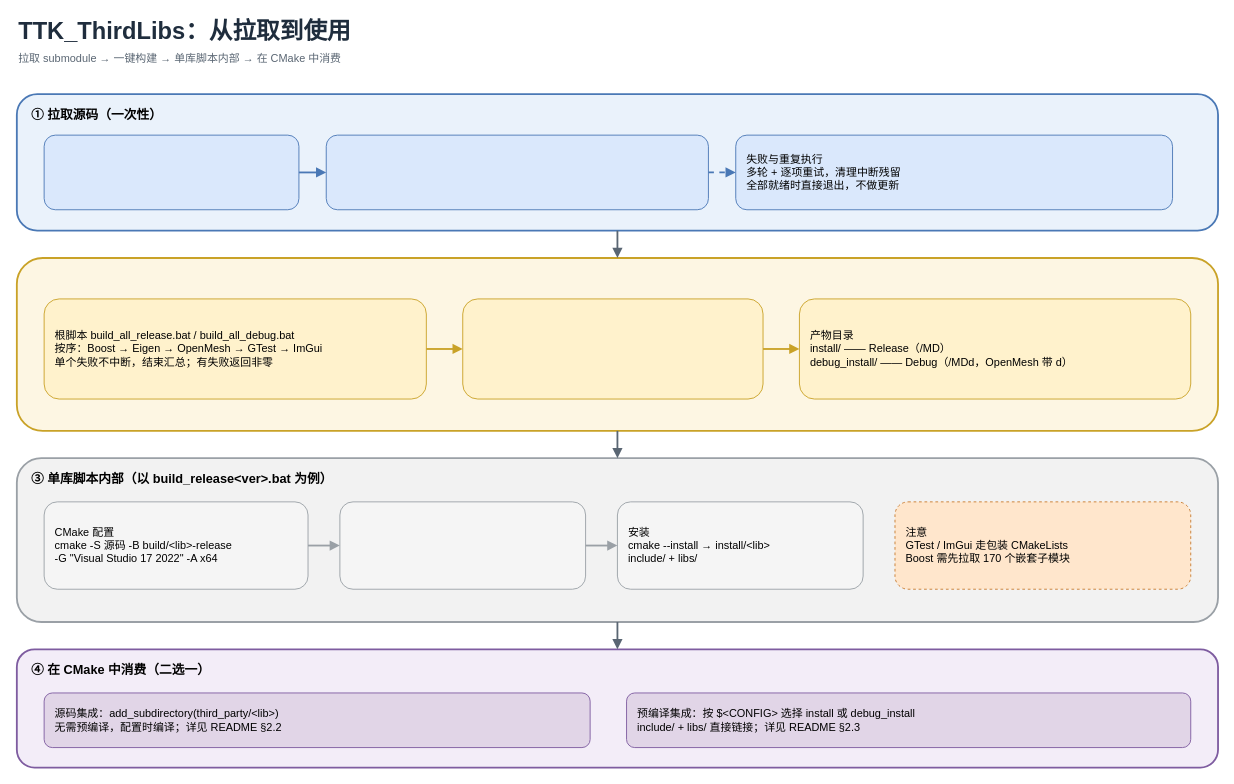
Image size: 1234x784. Some labels were removed from this diagram. Each missing label, with the box of its shape:
② 一键构建（每个配置跑一次）: (15, 257, 1218, 431)
前置条件 Visual Studio 2022（v143） CMake 在 PATH，x64: (43, 134, 299, 210)
完整拉取所有第三方库.bat 先做全量状态检查；未就绪才拉取 submodule update --init --recursive --depth 1: (325, 134, 708, 210)
每个库的构建脚本 third_party/<lib>/build_release*.bat third_party/<lib>/build_debug*.bat: (462, 298, 763, 399)
编译 cmake --build build/<lib>-release --config Release: (339, 501, 586, 589)
